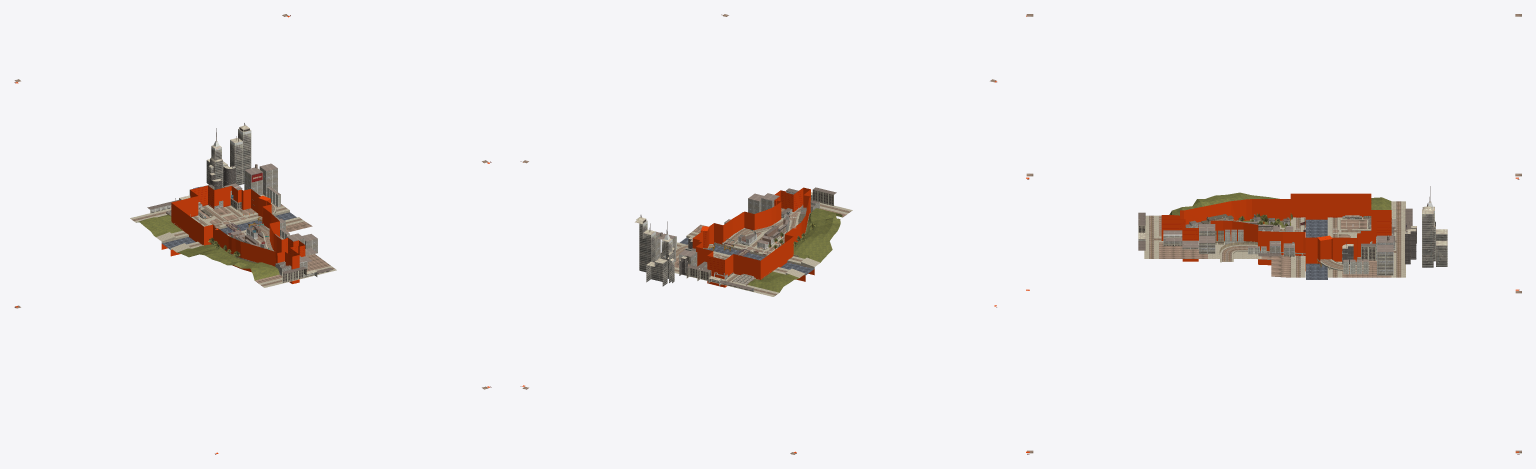
Rendered from traffic_slam_2_map.glb.
3 views of the same model, side by side, from view 1: azimuth 30°, elevation 25°; view 2: azimuth 150°, elevation 25°; view 3: azimuth 270°, elevation 25° (orthographic). The views are drawn at different scales.
Visible parts, largest first — view 1: WorldCityInvisibleWall, WorldCityStreet1, WorldCityBuildings6, WorldCityBuildings5, WorldCityBuildings1, WorldCityBuildings3, WorldCitySea; view 2: WorldCityStreet1, WorldCityInvisibleWall, WorldCityBuildings6, WorldCityBuildings2, WorldCityBuildings4, WorldCityBuildings5, WorldCityBuildings3, WorldCityBuildings1, WorldCitySea; view 3: WorldCityInvisibleWall, WorldCityStreet1, WorldCityBuildings6, WorldCityBuildings5, WorldCityBuildings2, WorldCityBuildings3, WorldCityBuildings1, WorldCitySea.
Part boxes in pixels (x1,y1,x2,y2): WorldCityInvisibleWall: (15, 16, 489, 453); WorldCityStreet1: (14, 14, 488, 389); WorldCityBuildings6: (201, 123, 251, 189); WorldCityBuildings5: (208, 163, 280, 209); WorldCityBuildings1: (275, 248, 332, 282); WorldCityBuildings3: (199, 216, 289, 258); WorldCitySea: (162, 212, 296, 249); WorldCityStreet1: (522, 14, 996, 454); WorldCityInvisibleWall: (522, 81, 996, 452); WorldCityBuildings6: (635, 215, 699, 286); WorldCityBuildings2: (748, 193, 810, 232); WorldCityBuildings4: (697, 267, 772, 291); WorldCityBuildings5: (656, 231, 707, 268); WorldCityBuildings3: (724, 219, 805, 256); WorldCityBuildings1: (783, 187, 836, 215); WorldCitySea: (679, 237, 813, 274); WorldCityInvisibleWall: (1026, 15, 1518, 452); WorldCityStreet1: (1026, 14, 1521, 453); WorldCityBuildings6: (1405, 186, 1447, 267); WorldCityBuildings5: (1342, 235, 1395, 275); WorldCityBuildings2: (1199, 214, 1257, 254); WorldCityBuildings3: (1234, 217, 1295, 259); WorldCityBuildings1: (1138, 212, 1202, 250); WorldCitySea: (1306, 219, 1327, 279).
Size of what is drawn, in the model's own units: 1594 by 1249 by 2027.
Materials: 15 (14 with a texture image).
